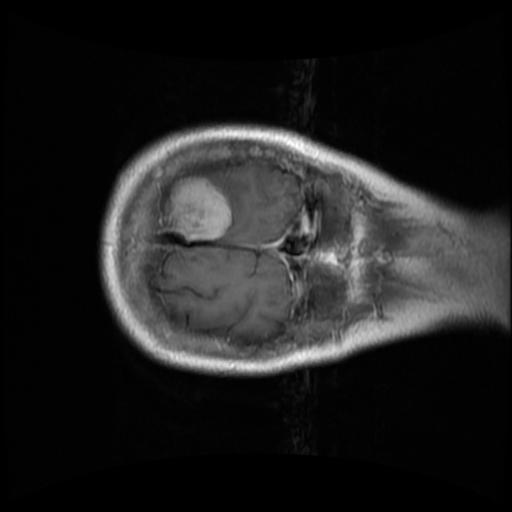meningioma: (161, 173, 233, 242)
